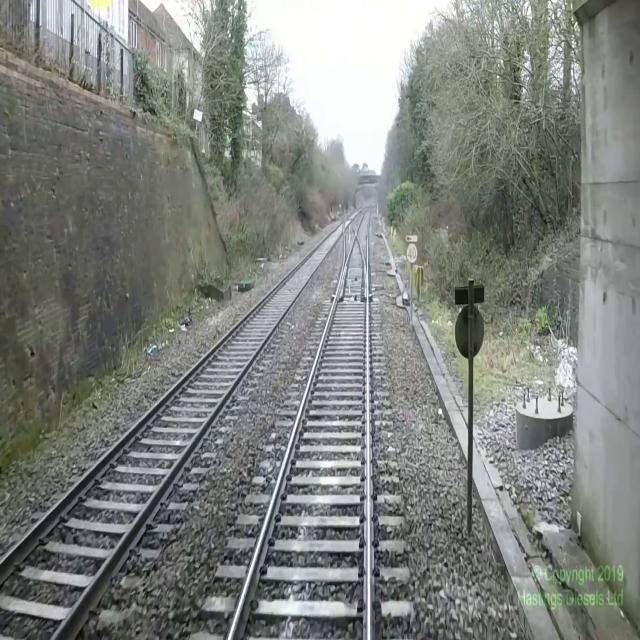rail-track: (0, 221, 344, 639), (230, 235, 367, 639), (356, 207, 370, 271), (344, 220, 355, 264)
